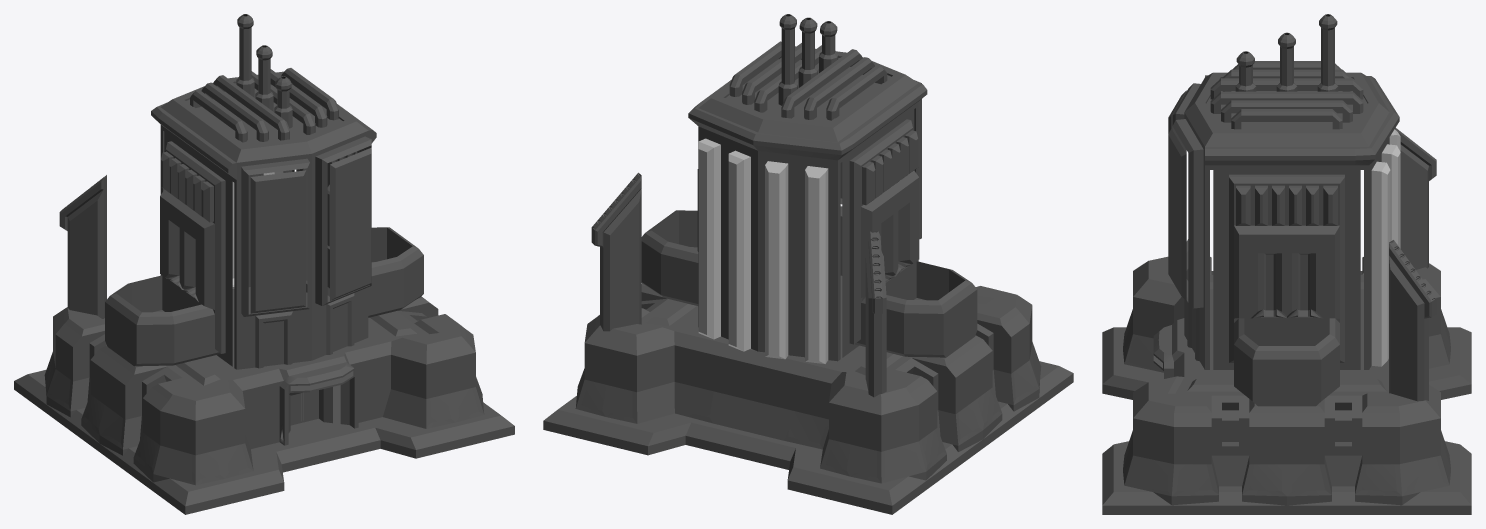
Rendered from Smeltery.dae.
3 renders of one model, left to right at view 1: azimuth 30°, elevation 25°; view 2: azimuth 150°, elevation 25°; view 3: azimuth 270°, elevation 25°, orthographic. The views are drawn at different scales.
Parts seen in each view (by area): view 1: Smeltery; view 2: Smeltery; view 3: Smeltery.
Part boxes in pixels (x1=…): Smeltery: x1=14, y1=14, x2=514, y2=514; Smeltery: x1=543, y1=14, x2=1073, y2=514; Smeltery: x1=1102, y1=14, x2=1471, y2=514.
Bounding box in the file's own units: 39.6 × 35.64 × 43.96.
